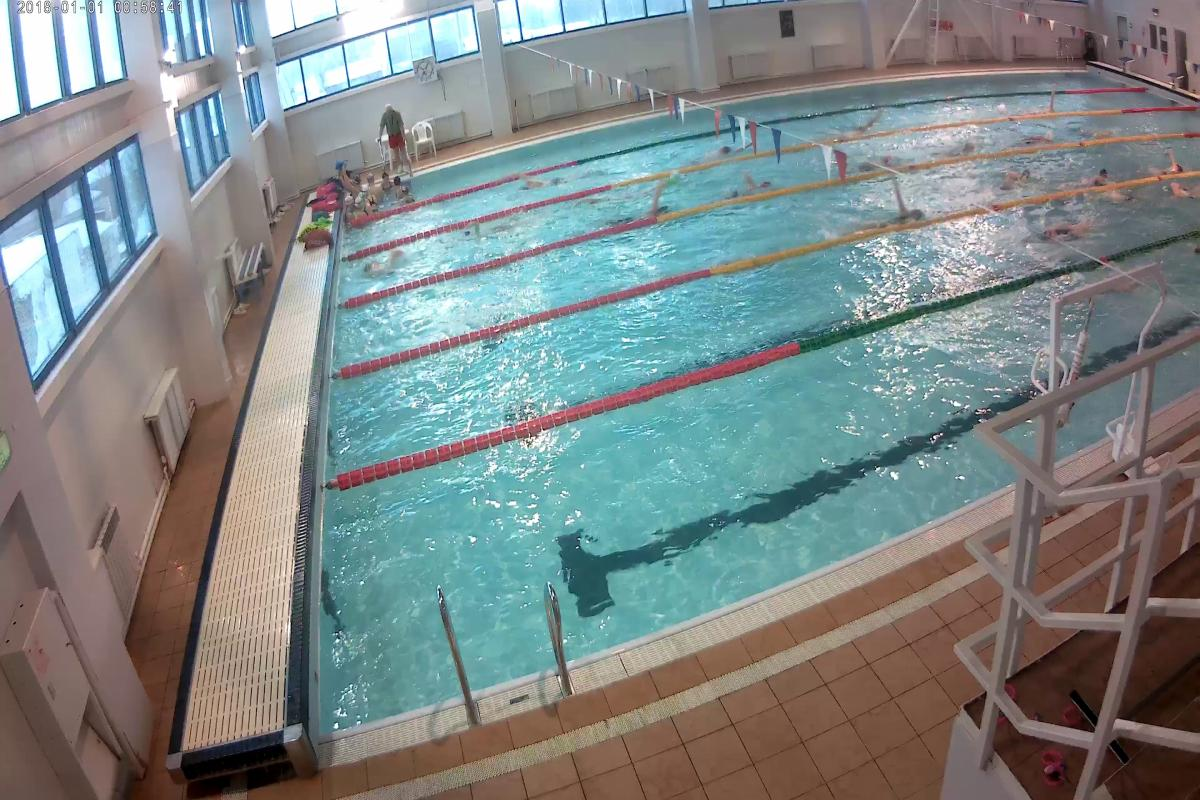swimmer: (1038, 214, 1086, 247), (1095, 182, 1139, 201), (1171, 186, 1199, 201)
